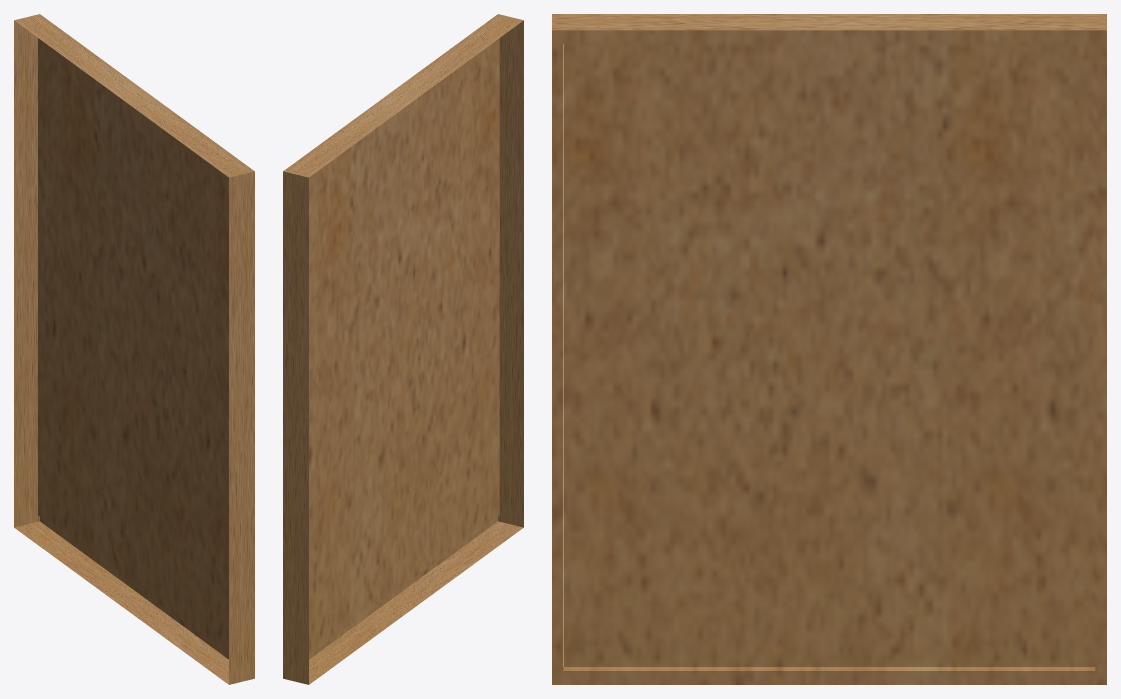
File: tabfb.gltf
3 views of the same model, side by side, from view 1: azimuth 30°, elevation 25°; view 2: azimuth 150°, elevation 25°; view 3: azimuth 270°, elevation 25° (orthographic). The views are drawn at different scales.
Visible parts, largest first — view 1: Social Facebook Lavagna; view 2: Social Facebook Lavagna; view 3: Social Facebook Lavagna.
Part boxes in pixels (bbox=[...]): Social Facebook Lavagna: bbox=[14, 14, 254, 684]; Social Facebook Lavagna: bbox=[283, 14, 523, 684]; Social Facebook Lavagna: bbox=[552, 14, 1106, 684].
Size of the model in its own units: 0.0305 by 0.5728 by 0.44.
2 materials, 2 textured.
